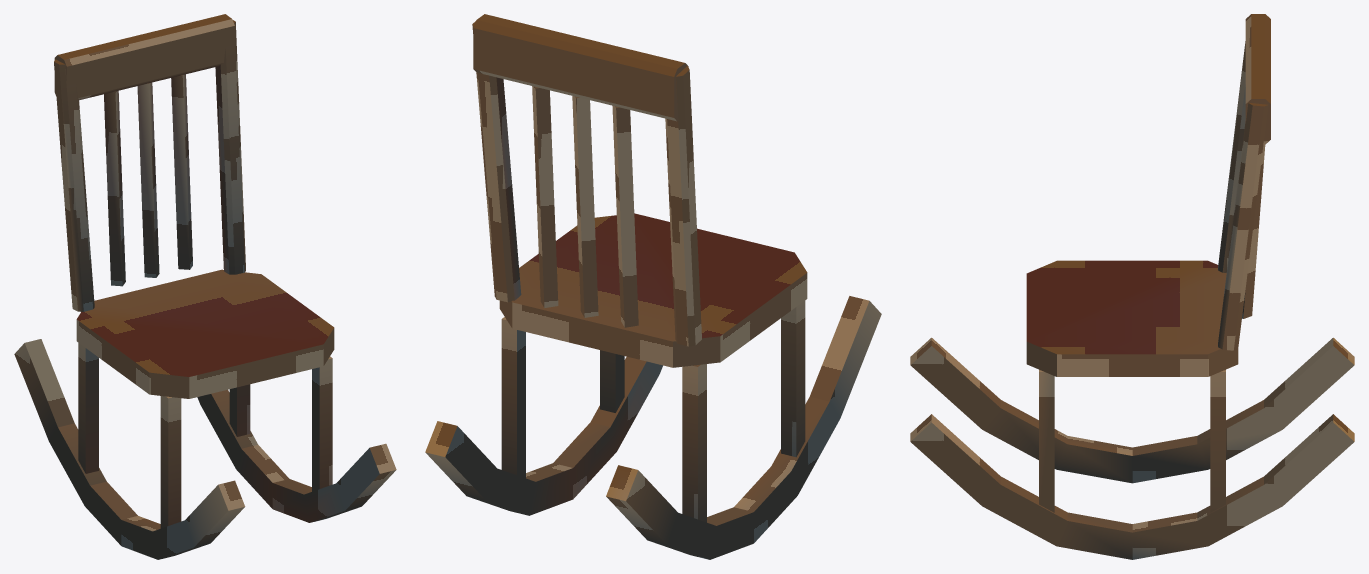
Rendered from wprop.chair__rocking.glb.
3 views of the same model, side by side, from view 1: azimuth 30°, elevation 25°; view 2: azimuth 150°, elevation 25°; view 3: azimuth 270°, elevation 25° (orthographic). The views are drawn at different scales.
Parts seen in each view (by area): view 1: kit_seat, kit_runners, kit_back_posts, kit_spindles, kit_legs, kit_back; view 2: kit_runners, kit_seat, kit_back_posts, kit_legs, kit_back, kit_spindles; view 3: kit_runners, kit_seat, kit_back_posts, kit_legs, kit_back, kit_spindles.
Boxes of the visible parts, x1=… form: kit_seat: x1=76, y1=269, x2=334, y2=398; kit_runners: x1=14, y1=339, x2=396, y2=559; kit_back_posts: x1=54, y1=20, x2=245, y2=311; kit_spindles: x1=104, y1=74, x2=192, y2=286; kit_legs: x1=78, y1=343, x2=332, y2=528; kit_back: x1=54, y1=14, x2=234, y2=100; kit_runners: x1=425, y1=296, x2=881, y2=559; kit_seat: x1=499, y1=213, x2=807, y2=367; kit_back_posts: x1=472, y1=21, x2=701, y2=346; kit_legs: x1=501, y1=300, x2=805, y2=522; kit_back: x1=473, y1=14, x2=688, y2=121; kit_spindles: x1=532, y1=86, x2=638, y2=327; kit_runners: x1=910, y1=337, x2=1354, y2=559; kit_seat: x1=1026, y1=260, x2=1238, y2=376; kit_back_posts: x1=1218, y1=41, x2=1268, y2=350; kit_legs: x1=1039, y1=369, x2=1225, y2=512; kit_back: x1=1245, y1=14, x2=1270, y2=144; kit_spindles: x1=1242, y1=144, x2=1265, y2=318.
Bounding box in the file's own units: 0.44 × 1.01 × 0.8823.
2 materials, 2 textured.
